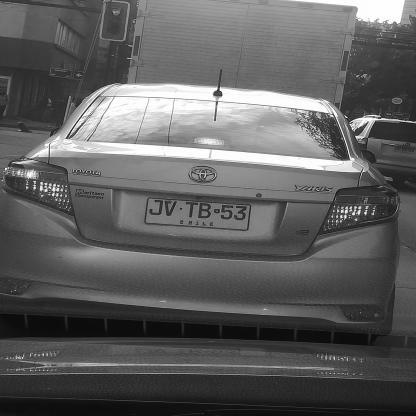Patente: (140, 193, 256, 233)
